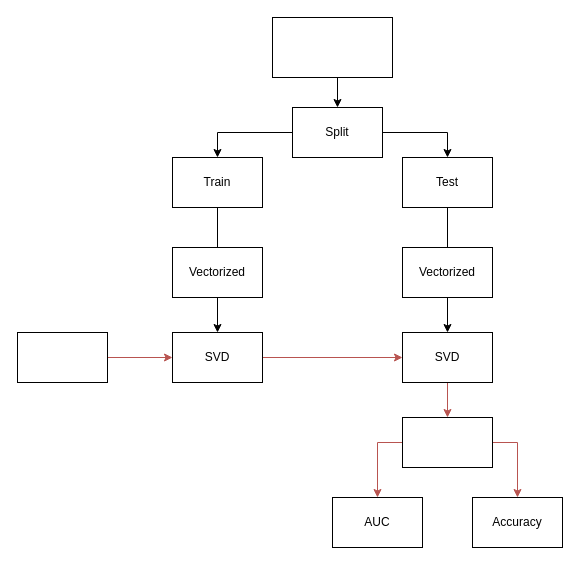
The diagram is 580 pixels wide and 565 high, and some of its shapes have lost their labels. Here are the shapes that lost their labels. From the top down, the centre of each, then its label:
At [332,47]: "Reddit News".
At [62,357]: "Classfier".
At [447,442]: "Prediction".
